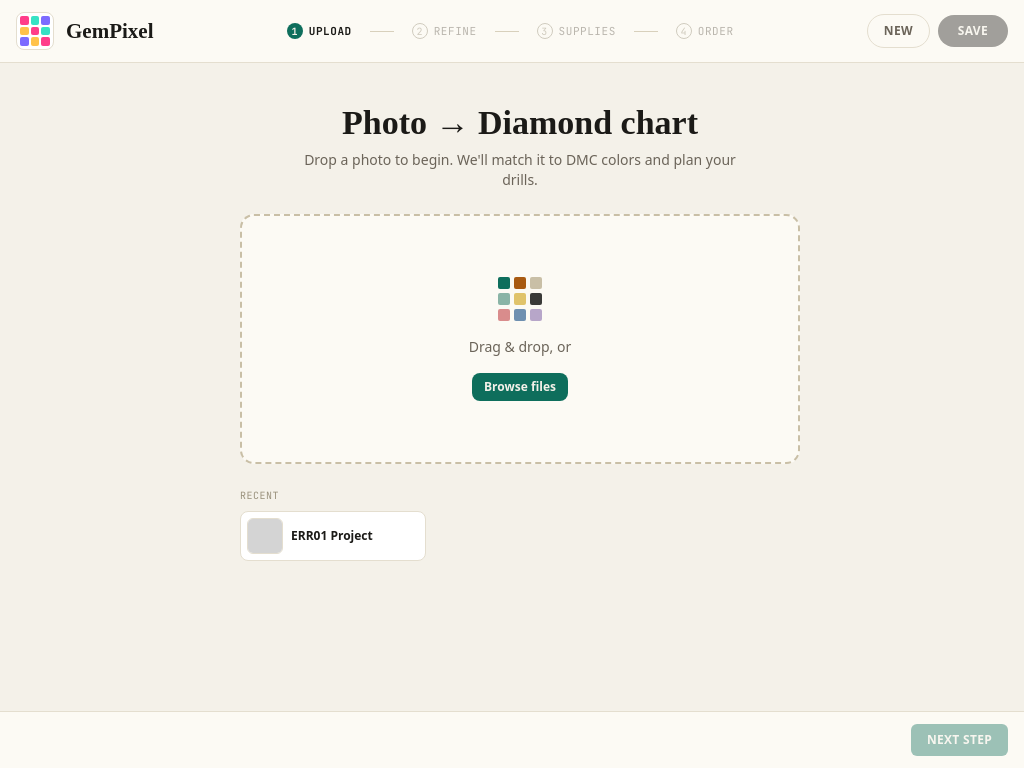
Test case: App Component Mounting and Basic UI Inputs › ERR-01 unified action-error banner › guards a corrupt unmapped-colors log during checkout and still proceeds (W4)
Click the button "ERR01 Project" at (310, 536), box left=247, top=518, right=373, bottom=554
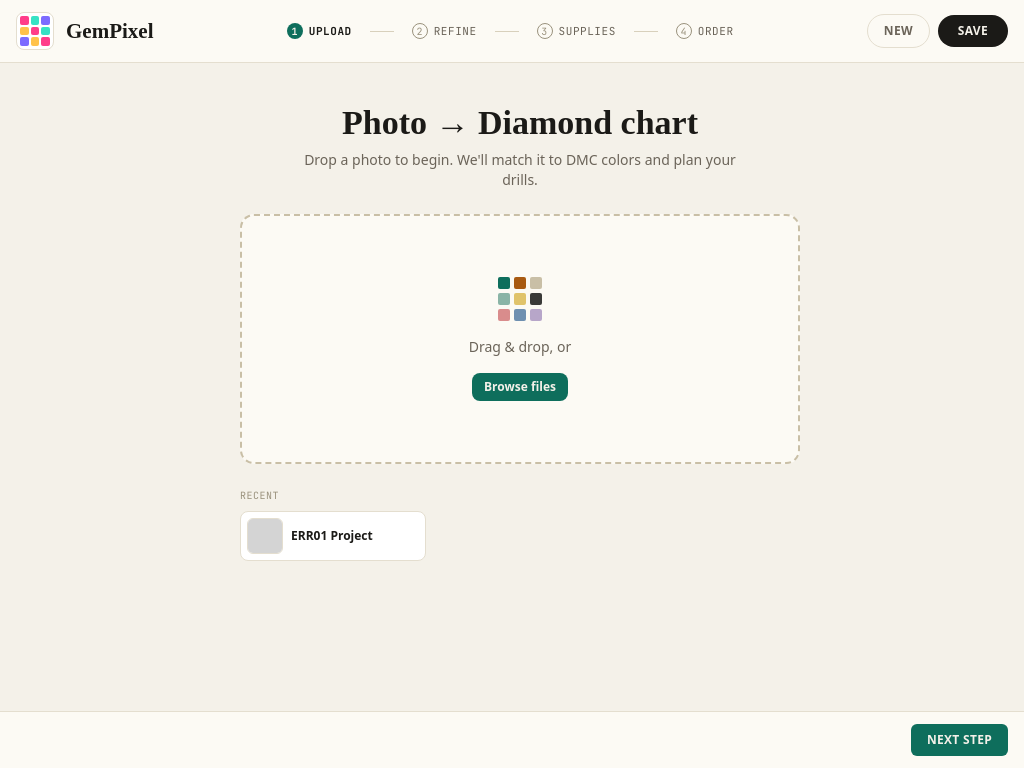
Click the button with id "wizard-next-btn" at (959, 740), box left=911, top=724, right=1008, bottom=756
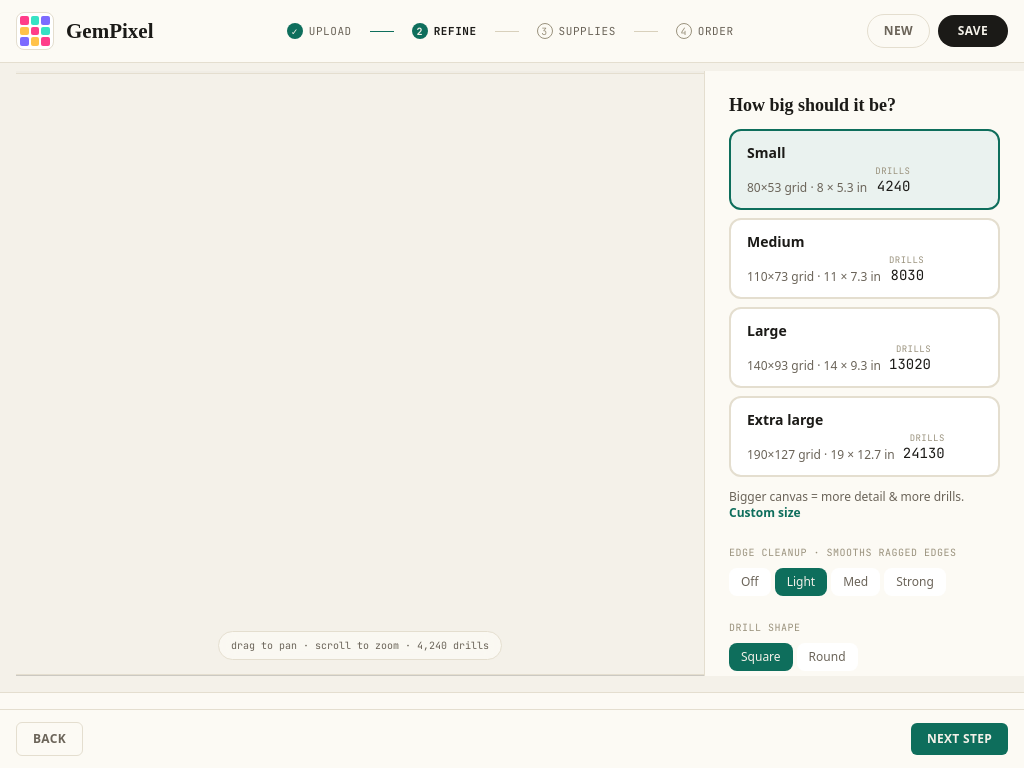
Click the button with id "wizard-next-btn" at (959, 739), box left=911, top=723, right=1008, bottom=755
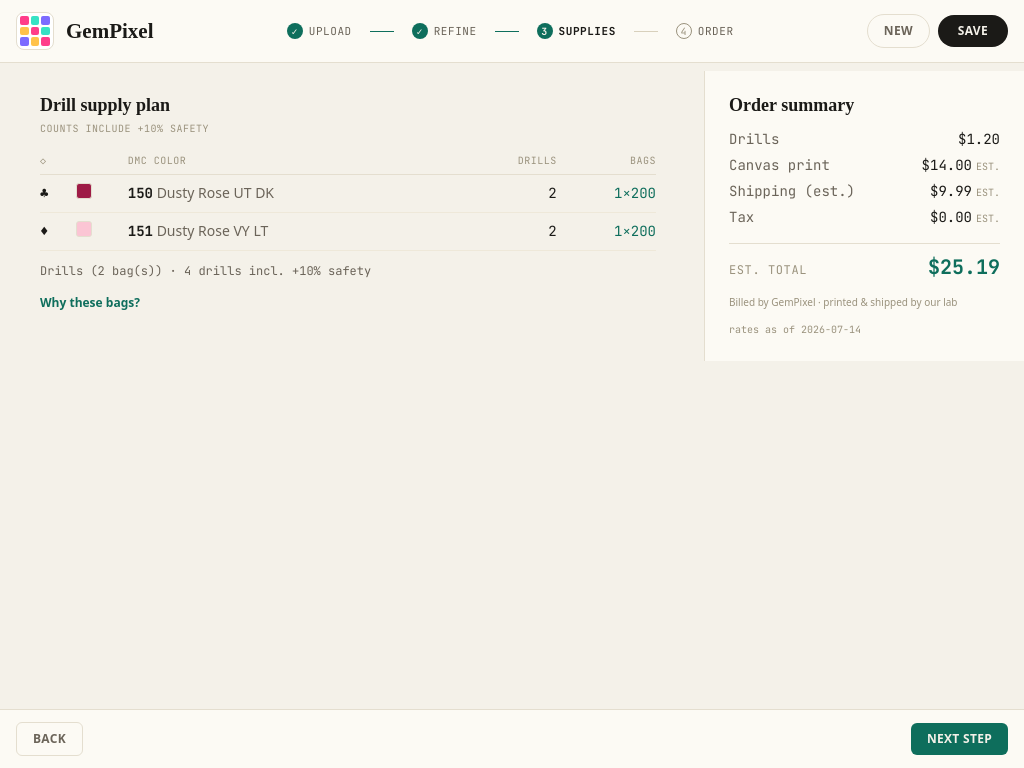
Click the button with id "wizard-next-btn" at (959, 739), box left=911, top=723, right=1008, bottom=755
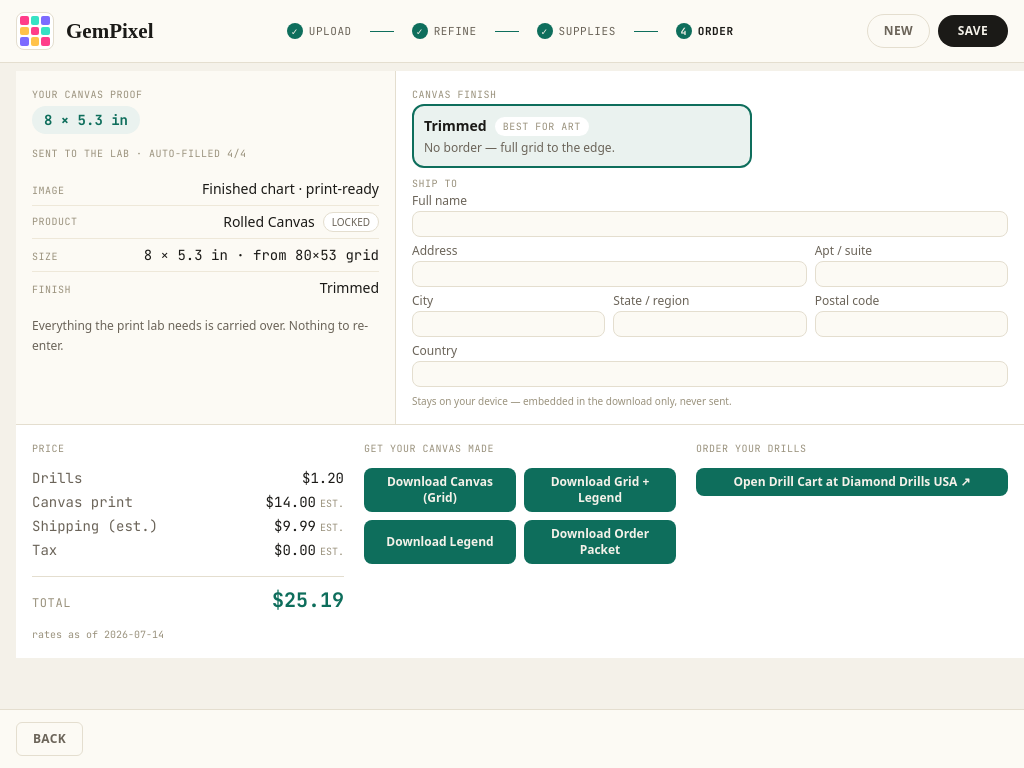
Expected: the button with test id "order-cart-cta" is shown
Click the button with test id "order-cart-cta" at (852, 482), box left=696, top=468, right=1008, bottom=496
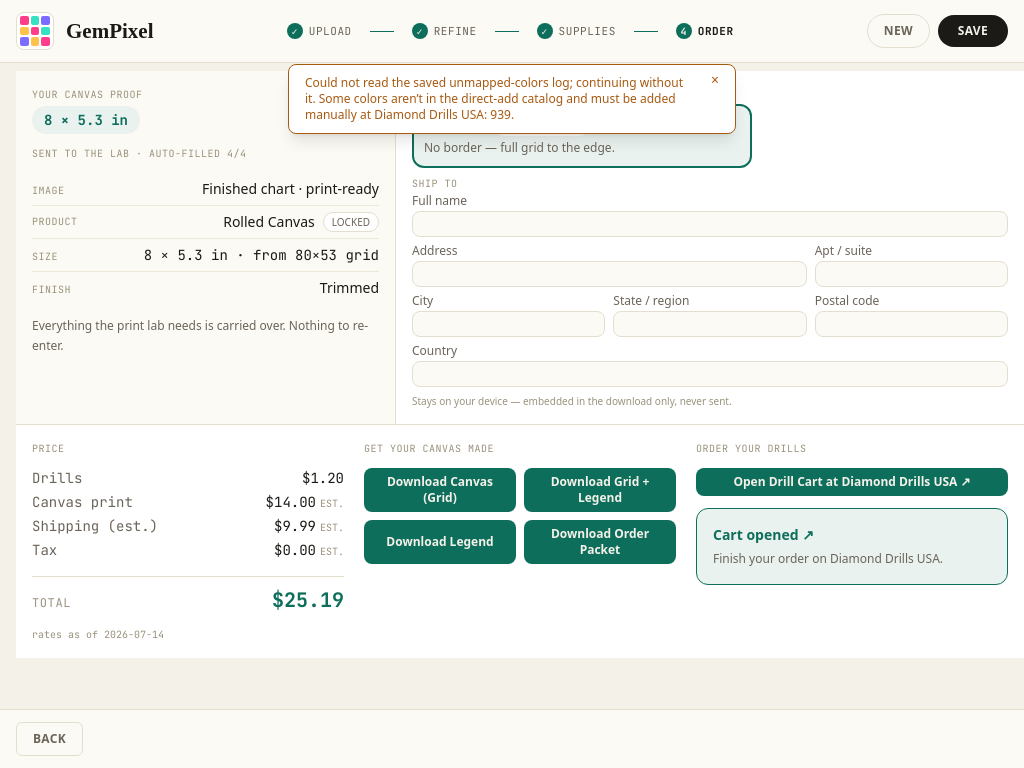
Expected: the text "Could not read the saved unmapped-colors log" is shown, left=305, top=74, right=683, bottom=123
